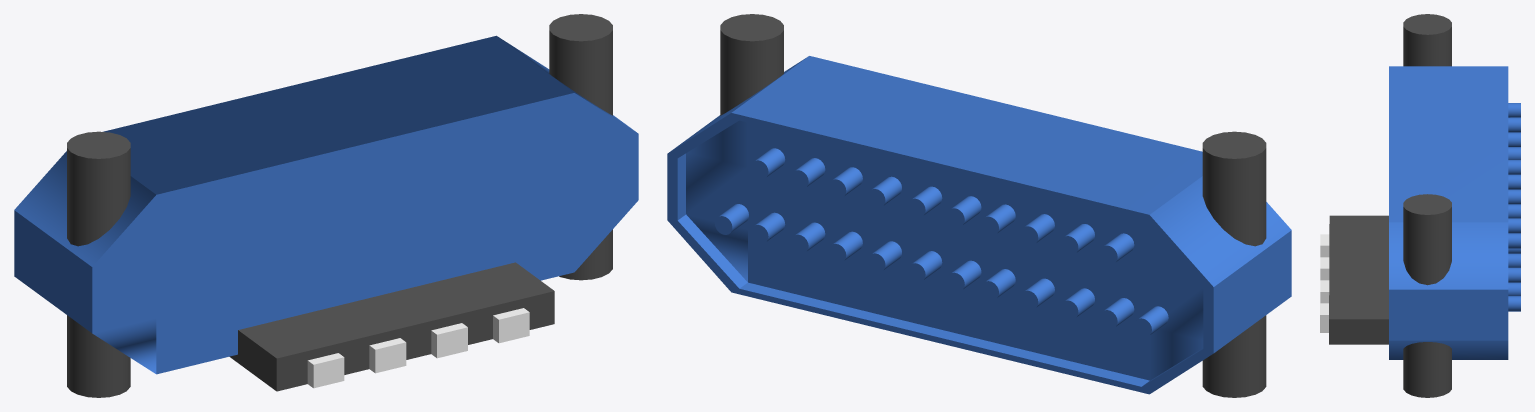
The picture shows the model from 3 angles, left to right: view 1: azimuth 30°, elevation 25°; view 2: azimuth 150°, elevation 25°; view 3: azimuth 270°, elevation 25°; orthographic projection. The views are drawn at different scales.
Parts seen in each view (by area): view 1: IO_2; view 2: IO_2; view 3: IO_2.
Part boxes in pixels (x1,y1,x2,y2): IO_2: [14, 14, 638, 397]; IO_2: [667, 14, 1291, 397]; IO_2: [1320, 14, 1520, 397].
Bounding box in the file's own units: 1639 × 685 × 681.
